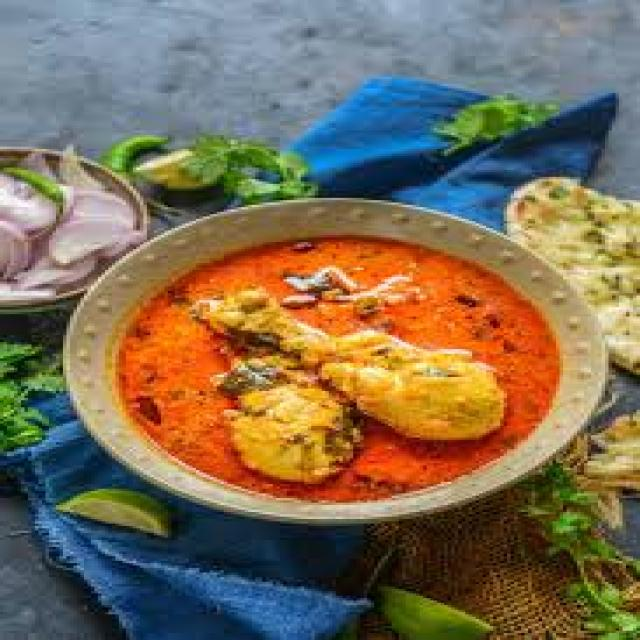Frango: (109, 235, 566, 500)
